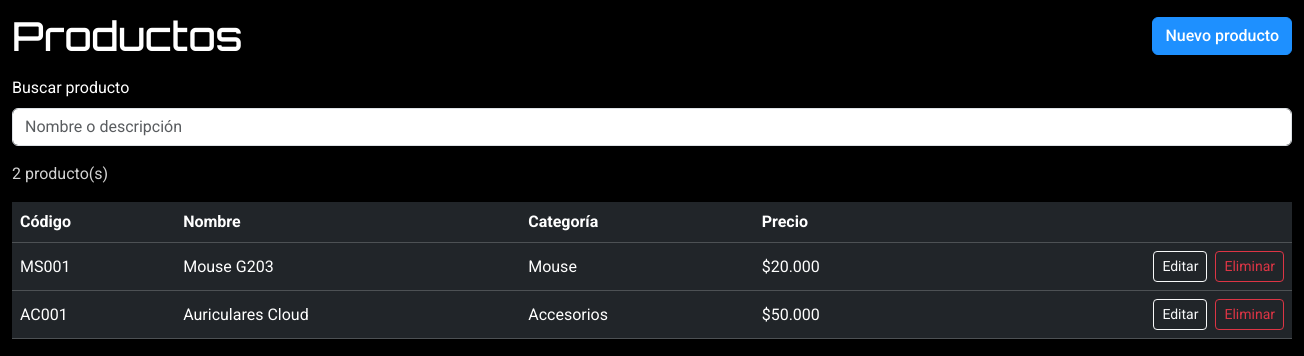
it: AdminProductosView › avisa si la búsqueda no encuentra nada
This screenshot has width=1304, height=356.
Type "zzzz" into the field labelled "Buscar producto".
click(652, 127); type("zzzz")  # box x1=12 y1=108 x2=1292 y2=146
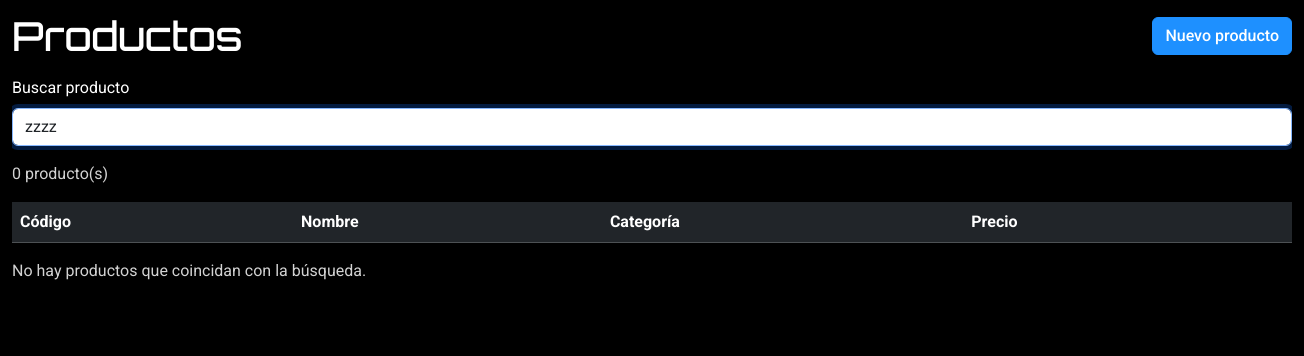
Expected: the text "No hay productos que coincidan con la búsqueda." is shown, x1=12 y1=261 x2=366 y2=280
